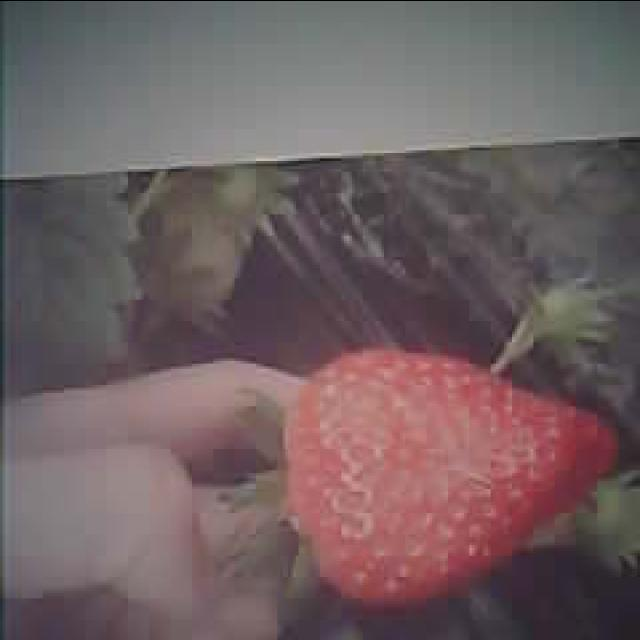strawberry: (283, 348, 613, 604)
